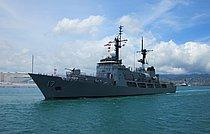MIL_Ship: (27, 25, 178, 98)
